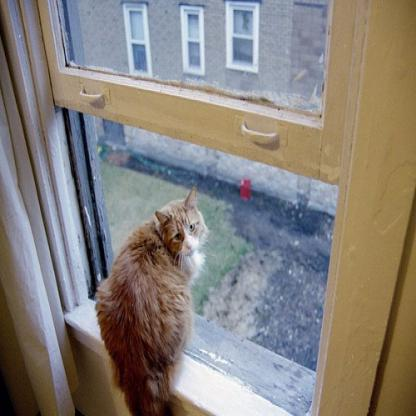cat: (92, 184, 209, 414)
